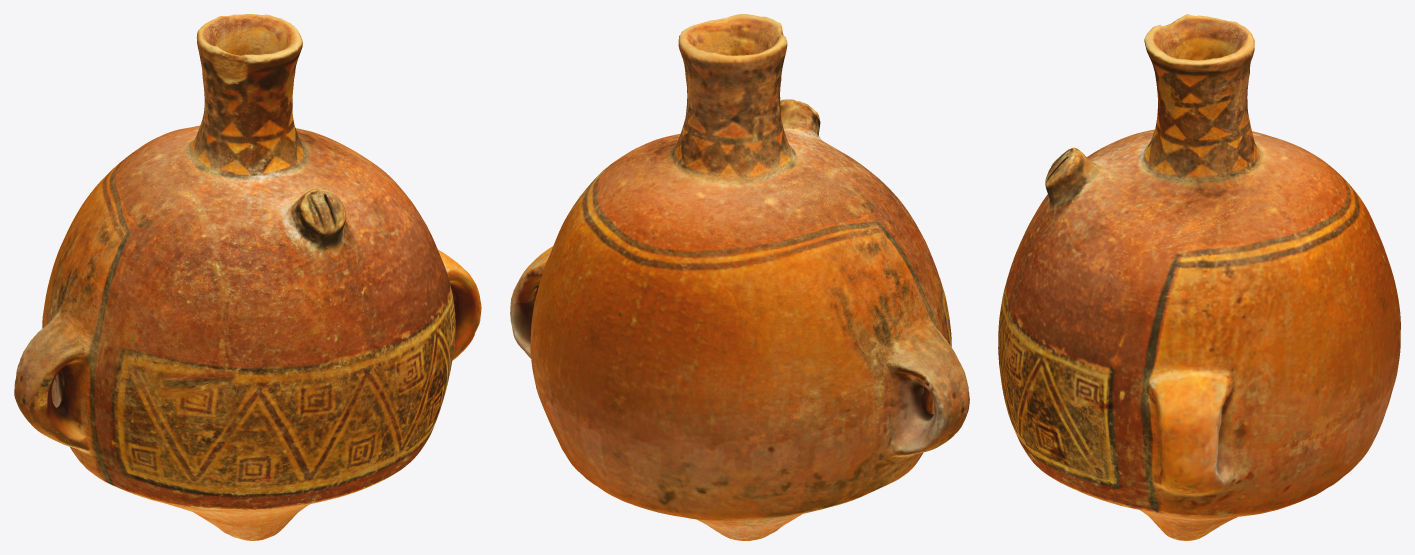
File: aribalo_inca.glb
3 views of the same model, side by side, from view 1: azimuth 30°, elevation 25°; view 2: azimuth 150°, elevation 25°; view 3: azimuth 270°, elevation 25° (orthographic).
Visible parts, largest first — view 1: Model; view 2: Model; view 3: Model.
Boxes of the visible parts, x1,y1,x2,y2 form: Model: [14, 14, 481, 540]; Model: [510, 14, 969, 540]; Model: [998, 14, 1400, 540].
Bounding box in the file's own units: 8.91 × 9.59 × 6.99.
1 material, 1 textured.
